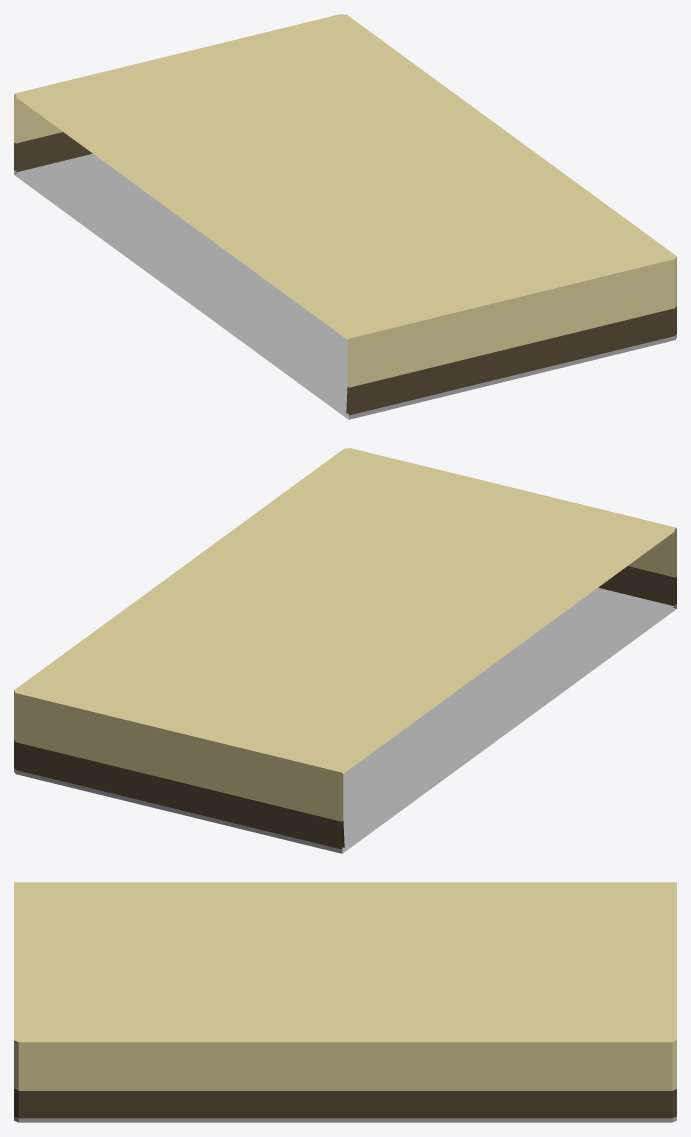
Rendered from interior_school_doorRoom_small.fbx.
3 renders of one model, top to bottom at view 1: azimuth 30°, elevation 25°; view 2: azimuth 150°, elevation 25°; view 3: azimuth 270°, elevation 25°, orthographic.
Visible parts, largest first — view 1: Visible Mesh; view 2: Visible Mesh; view 3: Visible Mesh.
Boxes of the visible parts, x1,y1,x2,y2 form: Visible Mesh: (14,14,676,419); Visible Mesh: (14,448,676,853); Visible Mesh: (14,882,676,1122).
Size of the model in its own units: 1620 by 380 by 2840.
